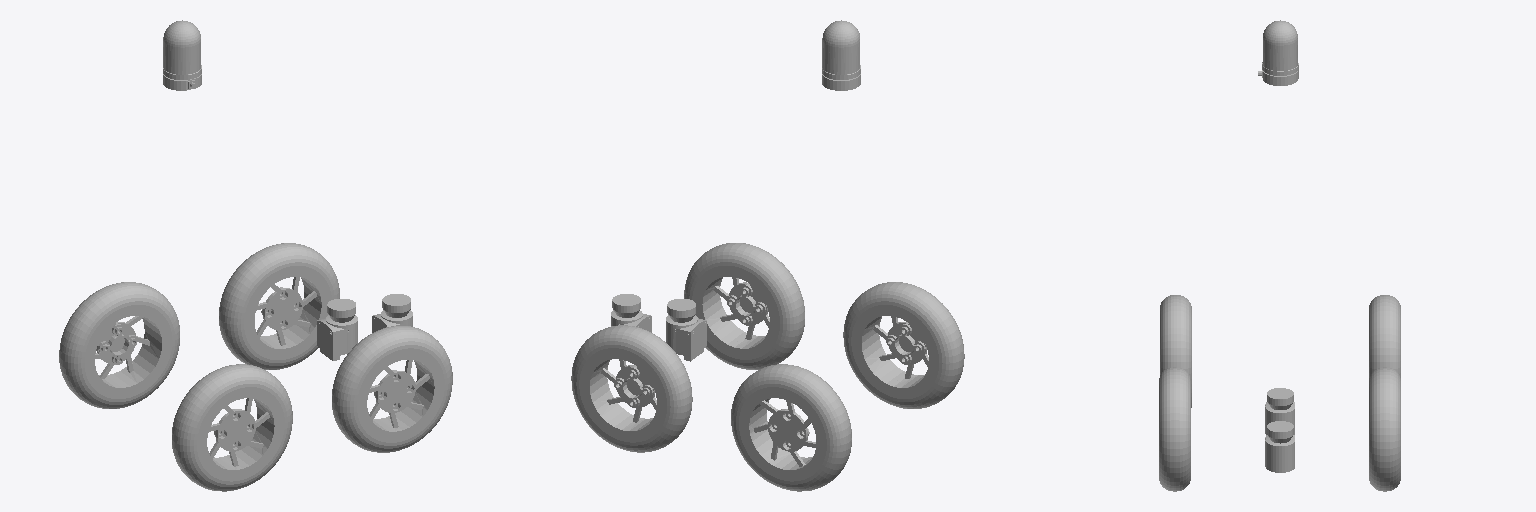
robot.urdf — xy:
<robot
  name="xy">

  <link
    name="base_footprint">
    <visual>
      <origin
        xyz="0 0 0.2984495120400078"
        rpy="1.5707963267949 0 1.5707963267949" />
      <geometry>
        <mesh
          filename="package://af_bringup/meshes/base_footprint.STL" />
      </geometry>
      <material
        name="">
        <color
          rgba="0.752941176470588 0.752941176470588 0.752941176470588 1" />
      </material>
    </visual>
  </link>


  <link
    name="base_link">
    <visual>
      <origin
        xyz="0 0 0"
        rpy="1.5707963267949 0 1.5707963267949" />
      <geometry>
        <mesh
          filename="package://af_bringup/meshes/base_footprint.STL" />
      </geometry>
      <material
        name="">
        <color
          rgba="0.752941176470588 0.752941176470588 0.752941176470588 1" />
      </material>
    </visual>
  </link>
  <joint
    name="base_link_joint"
    type="fixed">
    <origin
      xyz="0 0 0.2984495120400078"
      rpy="0 0 0" />
    <parent
      link="base_footprint" />
    <child
      link="base_link" />
    <axis
      xyz="0 0 0" />
  </joint>


  <link
    name="laser">
    <visual>
      <origin
        xyz="0 0 0"
        rpy="0 0 1.5707963267949" />
      <geometry>
        <mesh
          filename="package://af_bringup/meshes/laser.STL" />
      </geometry>
      <material
        name="">
        <color
          rgba="0.752941176470588 0.752941176470588 0.752941176470588 1" />
      </material>
    </visual>
  </link>
  <joint
    name="laser_joint"
    type="fixed">
    <origin
      xyz="0.59 0 0.026"
      rpy="0 0 0" />
    <parent
      link="base_link" />
    <child
      link="laser" />
    <axis
      xyz="0 0 0" />
  </joint>

  <link
    name="imu">
    <visual>
      <origin
        xyz="0 0 0"
        rpy="0 0 1.5707963267949" />
      <geometry>
        <mesh
          filename="package://af_bringup/meshes/laser.STL" />
      </geometry>
      <material
        name="">
        <color
          rgba="0.752941176470588 0.752941176470588 0.752941176470588 1" />
      </material>
    </visual>
  </link>
  <joint
    name="imu_joint"
    type="fixed">
    <origin
      xyz="0.39 0 0.056"
      rpy="0 0 0" />
    <parent
      link="base_link" />
    <child
      link="imu" />
    <axis
      xyz="0 0 0" />
  </joint>

  <link
    name="wheel1">
    <visual>
      <origin
        xyz="0 0 0"
        rpy="1.5707963267949 0 0" />
      <geometry>
        <mesh
          filename="package://af_bringup/meshes/wheel1.STL" />
      </geometry>
      <material
        name="">
        <color
          rgba="0.752941176470588 0.752941176470588 0.752941176470588 1" />
      </material>
    </visual>
  </link>
  <joint
    name="base_wheel1"
    type="fixed">
    <origin
      xyz="0.36689 0.353838628838196 -0.0884495120400078"
      rpy="0 0 0" />
    <parent
      link="base_link" />
    <child
      link="wheel1" />
    <axis
      xyz="0 0 0" />
  </joint>



  <link
    name="wheel2">
    <visual>
      <origin
        xyz="0 0 0"
        rpy="1.5707963267949 0 0" />
      <geometry>
        <mesh
          filename="package://af_bringup/meshes/wheel2.STL" />
      </geometry>
      <material
        name="">
        <color
          rgba="0.752941176470588 0.752941176470588 0.752941176470588 1" />
      </material>
    </visual>
  </link>
  <joint
    name="base_wheel2"
    type="fixed">
    <origin
      xyz="-0.21311 0.353805715763312 -0.0884495120400076"
      rpy="0 0 0" />
    <parent
      link="base_link" />
    <child
      link="wheel2" />
    <axis
      xyz="0 0 0" />
  </joint>



  <link
    name="wheel3">
    <visual>
      <origin
        xyz="0 0 0"
        rpy="-1.5707963267949 0 0" />
      <geometry>
        <mesh
          filename="package://af_bringup/meshes/wheel3.STL" />
      </geometry>
      <material
        name="">
        <color
          rgba="0.752941176470588 0.752941176470588 0.752941176470588 1" />
      </material>
    </visual>
  </link>
  <joint
    name="base_wheel3"
    type="fixed">
    <origin
      xyz="0.36689 -0.356514177677096 -0.0884495120400078"
      rpy="0 0 0" />
    <parent
      link="base_link" />
    <child
      link="wheel3" />
    <axis
      xyz="0 0 0" />
  </joint>



  <link
    name="wheel4">
    <visual>
      <origin
        xyz="0 0 0"
        rpy="-1.5707963267949 0 0" />
      <geometry>
        <mesh
          filename="package://af_bringup/meshes/wheel4.STL" />
      </geometry>
      <material
        name="">
        <color
          rgba="0.752941176470588 0.752941176470588 0.752941176470588 1" />
      </material>
    </visual>
  </link>
  <joint
    name="base_wheel4"
    type="fixed">
    <origin
      xyz="-0.21311 -0.353805715763312 -0.0884495120400078"
      rpy="0 0 0" />
    <parent
      link="base_link" />
    <child
      link="wheel4" />
    <axis
      xyz="0 0 0" />
  </joint>



  <link
    name="gps">
    <visual>
      <origin
        xyz="0 0 0"
        rpy="3.14159265358979 0 0" />
      <geometry>
        <mesh
          filename="package://af_bringup/meshes/camera.STL" />
      </geometry>
      <material
        name="">
        <color
          rgba="0.752941176470588 0.752941176470588 0.752941176470588 1" />
      </material>
    </visual>
  </link>
  <joint
    name="base_gps"
    type="fixed">
    <origin
      xyz="-0.19 0 0.962"
      rpy="0 0 0" />
    <parent
      link="base_link" />
    <child
      link="gps" />
    <axis
      xyz="0 0 0" />
  </joint>
</robot>

--- What the picture shows (computed from the rendered views, not written in the file) ---
3 views of the same robot in one strip: view 1: azimuth 30°, elevation 25°; view 2: azimuth 150°, elevation 25°; view 3: azimuth 270°, elevation 25° (orthographic).
Robot: xy — 9 links, 8 joints (8 fixed); root link base_footprint; default pose: all joints at 0.
Visible links, largest first — view 1: wheel4, wheel2, wheel3, wheel1, gps, imu, laser; view 2: wheel4, wheel2, wheel1, wheel3, gps, imu, laser; view 3: wheel1, wheel3, wheel4, wheel2, gps, laser, imu.
Boxes of the visible links, x1,y1,x2,y2 form: wheel4: (172,364,292,491); wheel2: (59,282,179,408); wheel3: (332,326,452,452); wheel1: (219,243,339,369); gps: (163,20,201,90); imu: (317,299,357,360); laser: (372,294,412,332); wheel4: (843,282,964,408); wheel2: (731,364,851,491); wheel1: (571,325,692,452); wheel3: (684,243,804,369); gps: (822,20,860,90); imu: (666,299,706,361); laser: (611,294,651,332); wheel1: (1369,367,1400,491); wheel3: (1159,367,1190,491); wheel4: (1160,295,1191,407); wheel2: (1369,295,1400,377); gps: (1258,20,1298,85); laser: (1265,421,1294,472); imu: (1265,388,1294,434).
Bounding box of the posed robot: 1.06 × 0.8204 × 1.47 m (x, y, z).
Meshes: 7 distinct files referenced, 7 mesh visuals loaded (6 binary STL); not drawn: 2 (reference not matched to a file when rendering).